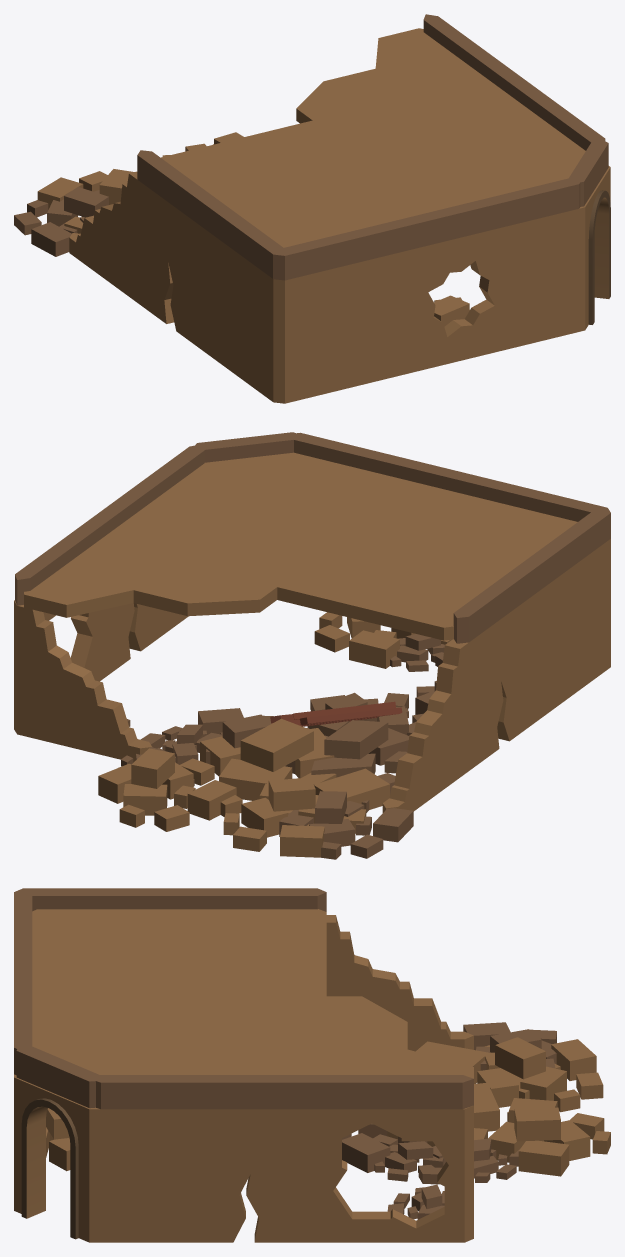
Rendered from ZerstörtesHausFlach2LehmMat.fbx.
3 views of the same model, one above another, from view 1: azimuth 30°, elevation 25°; view 2: azimuth 150°, elevation 25°; view 3: azimuth 270°, elevation 25° (orthographic). The views are drawn at different scales.
Parts seen in each view (by area): view 1: mergedBlocks; view 2: mergedBlocks; view 3: mergedBlocks.
Part boxes in pixels (bbox=[...]): mergedBlocks: bbox=[14, 14, 610, 403]; mergedBlocks: bbox=[14, 432, 610, 859]; mergedBlocks: bbox=[14, 888, 610, 1242].
Size of the model in its own units: 329 by 121 by 406.
